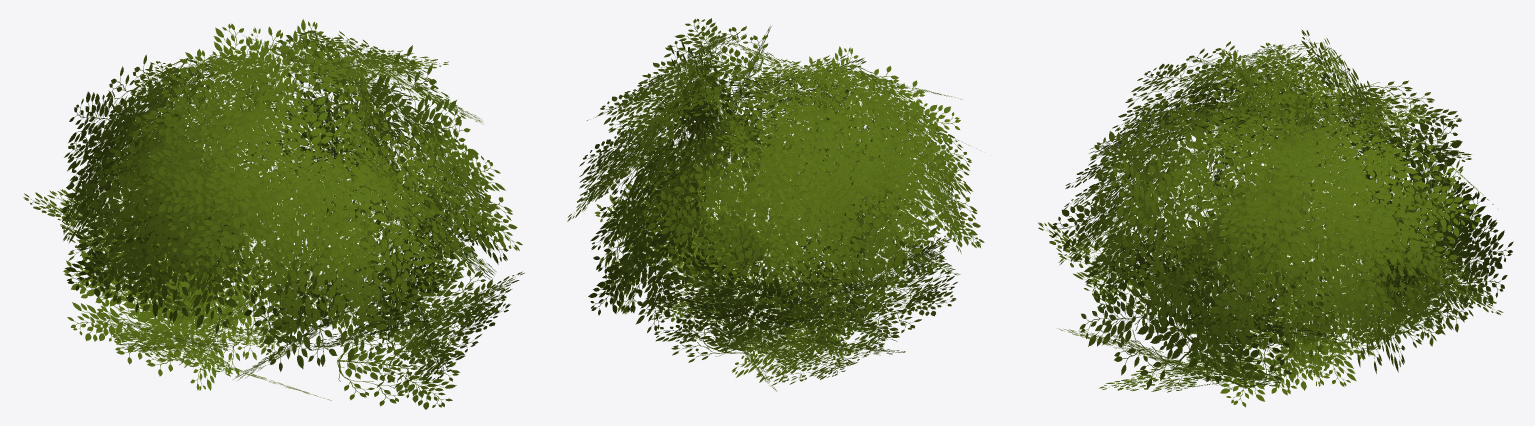
The model's file is s1-shrub.glb.
3 renders of one model, left to right at view 1: azimuth 30°, elevation 25°; view 2: azimuth 150°, elevation 25°; view 3: azimuth 270°, elevation 25°, orthographic. The views are drawn at different scales.
Parts seen in each view (by area): view 1: Shrub; view 2: Shrub; view 3: Shrub.
Part boxes in pixels (x1,y1,x2,y2): Shrub: [23, 19, 524, 409]; Shrub: [567, 18, 984, 391]; Shrub: [1038, 29, 1513, 407].
Bounding box in the file's own units: 1.53 × 1.26 × 1.68.
1 material, 1 textured.
